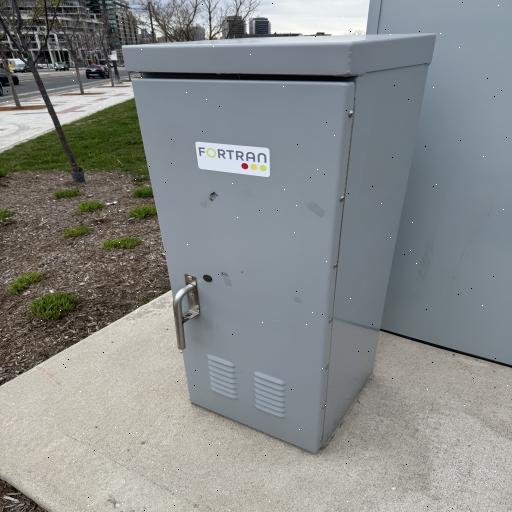Electrical Box: (124, 36, 418, 454), (339, 0, 512, 369)
